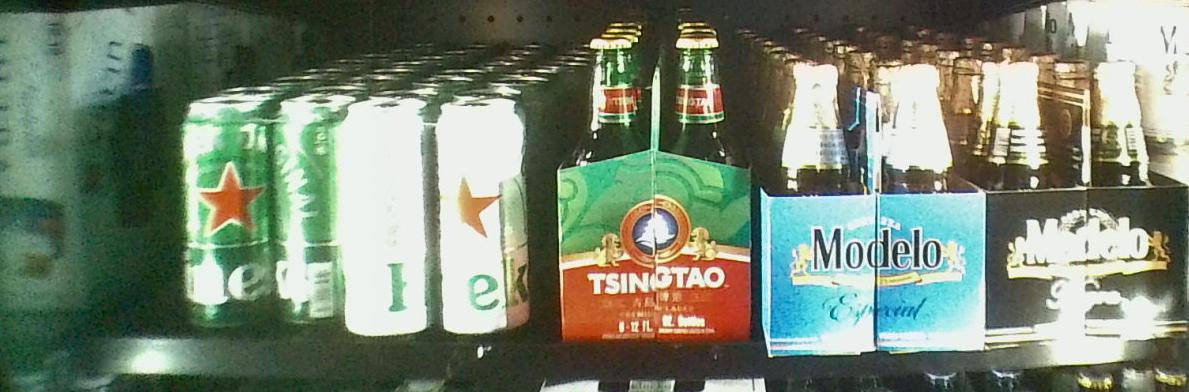bottle: (759, 52, 981, 357), (555, 31, 754, 344), (982, 58, 1189, 343), (341, 97, 528, 337), (182, 101, 339, 330)
